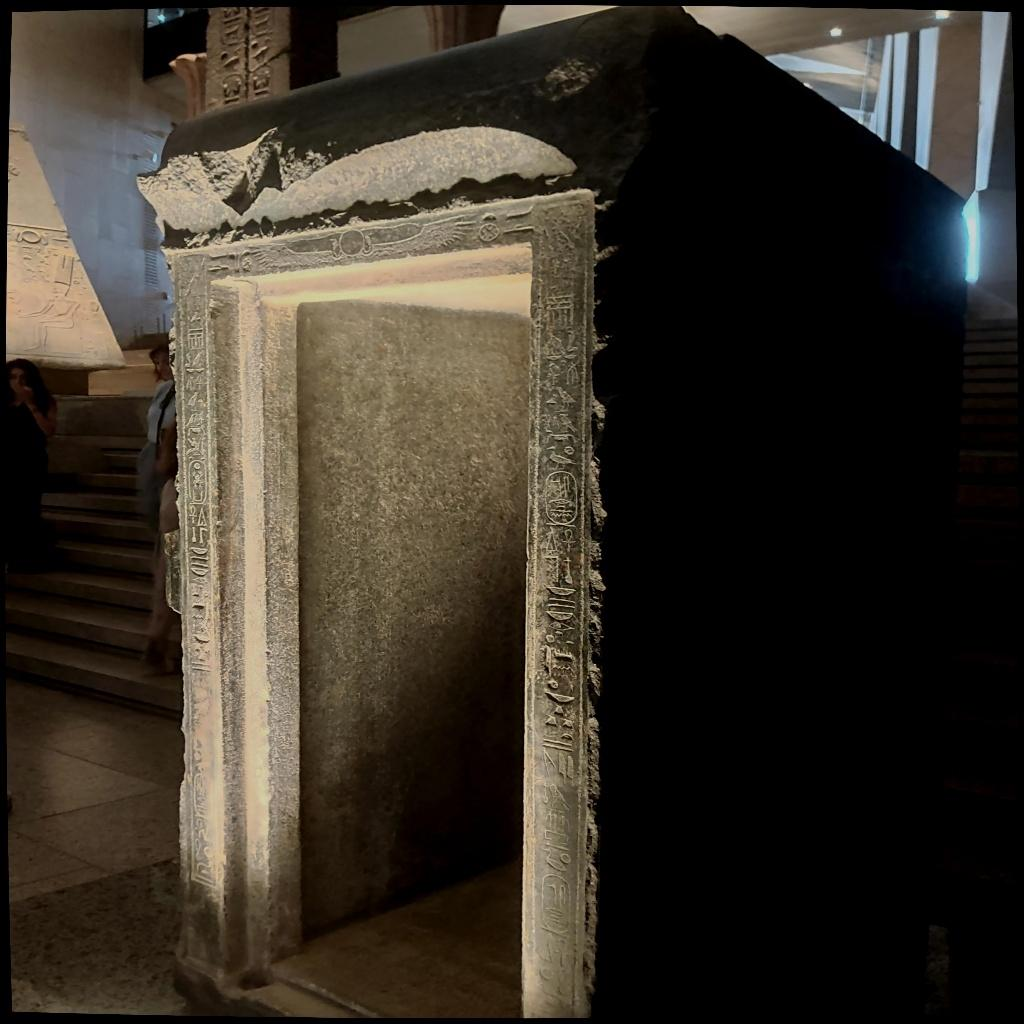Naos of Senwosert I: (145, 10, 970, 1018)
